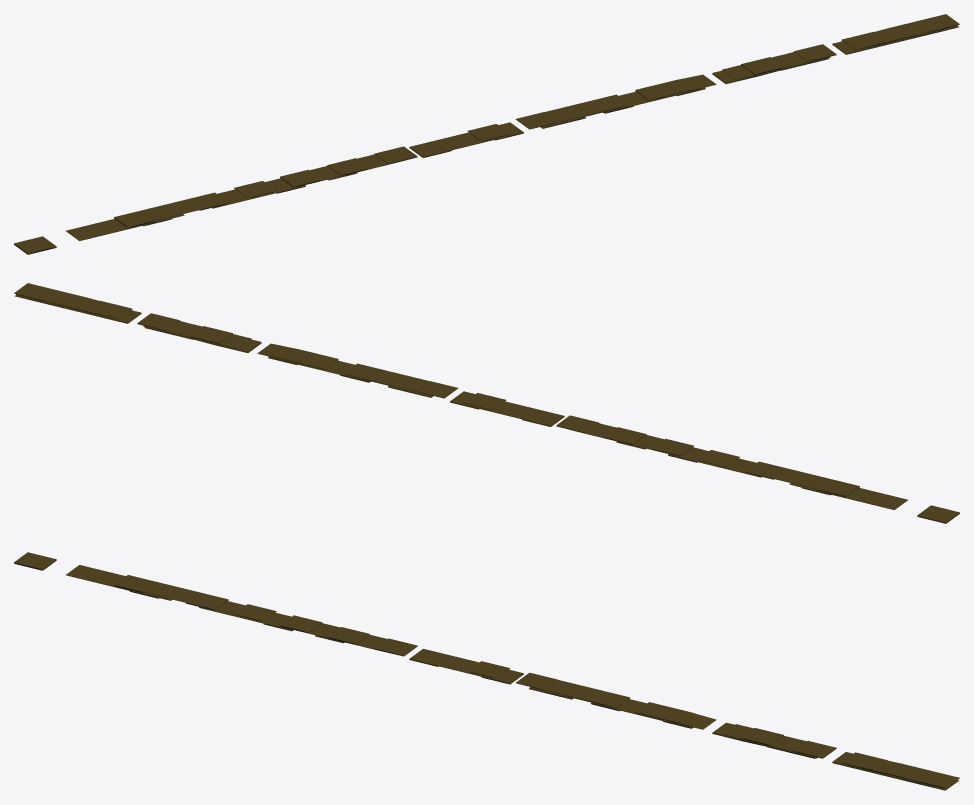
File: Mahane_Yarden__Text_v03.FBX
3 views of the same model, one above another, from view 1: azimuth 30°, elevation 25°; view 2: azimuth 150°, elevation 25°; view 3: azimuth 330°, elevation 25° (orthographic).
Visible parts, largest first — view 1: Text010; view 2: Text010; view 3: Text010.
Part boxes in pixels (x1=…): Text010: x1=14, y1=14, x2=959, y2=254; Text010: x1=14, y1=283, x2=959, y2=523; Text010: x1=14, y1=552, x2=959, y2=790.
Bounding box in the file's own units: 367 × 1.31 × 9.43.
